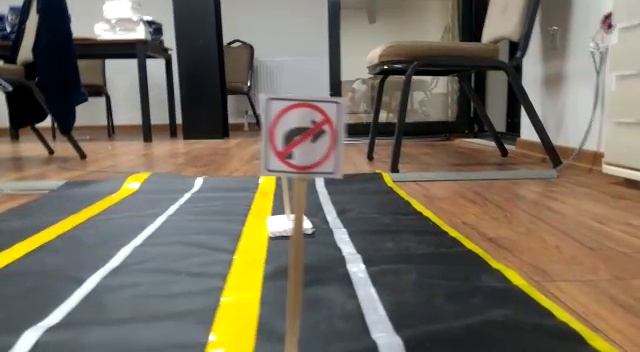saga_donulmez: (267, 97, 337, 176)
